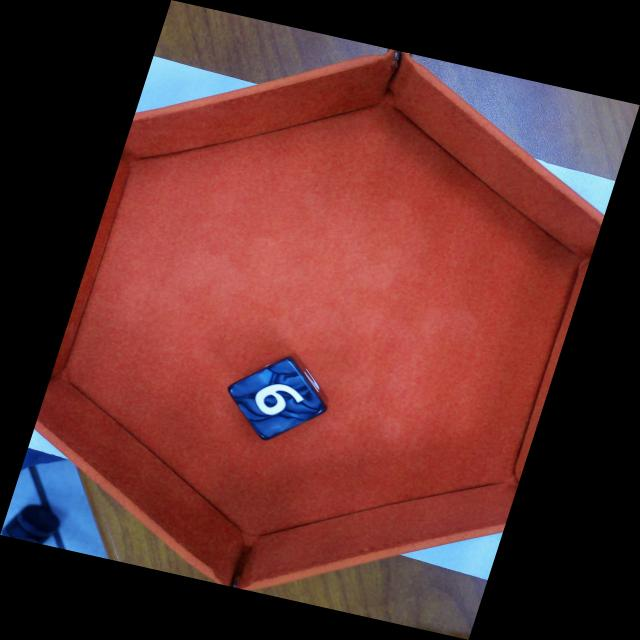dice: (226, 359, 329, 441)
